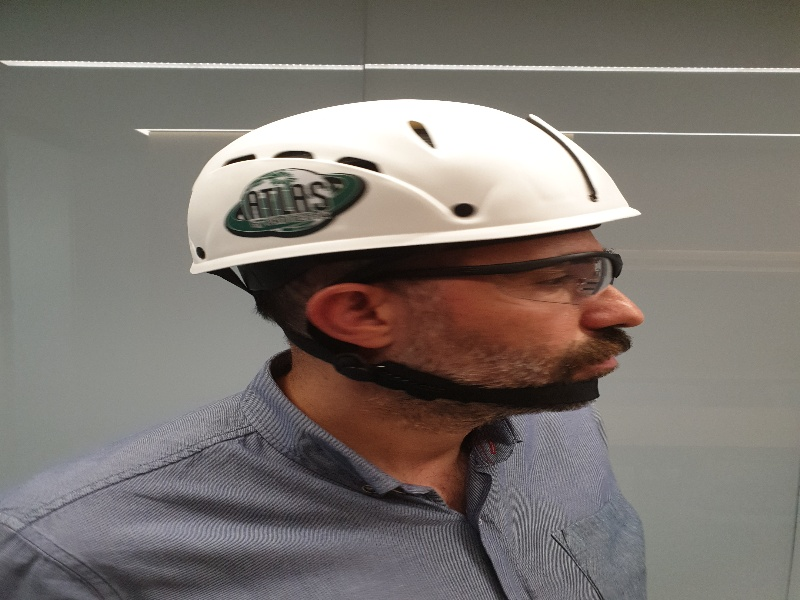Baret: (187, 95, 642, 257)
Gozluk: (322, 252, 624, 302)
